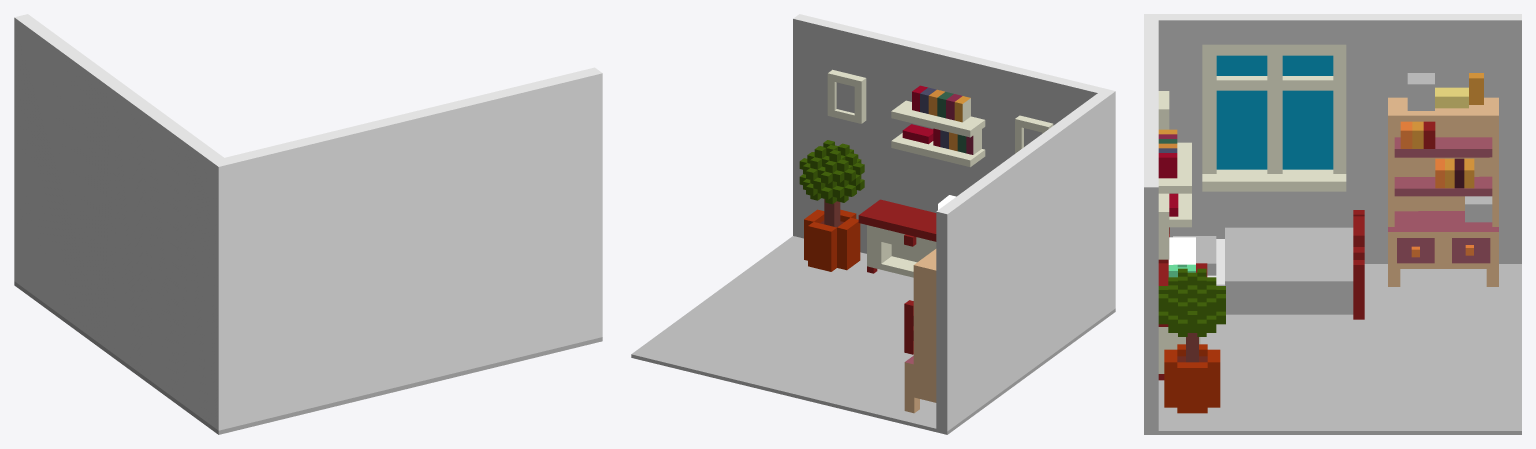
File: bedroom2.gltf
3 renders of one model, left to right at view 1: azimuth 30°, elevation 25°; view 2: azimuth 150°, elevation 25°; view 3: azimuth 270°, elevation 25°, orthographic. The views are drawn at different scales.
Parts seen in each view (by area): view 1: Object_24, Object_5; view 2: Object_24, Object_25, Object_5, Object_31, Object_19, Object_3, Object_6, Object_28, Object_33, Object_27, Object_34, Object_26; view 3: Object_25, Object_5, Object_22, Object_7, Object_19, Object_8, Object_18, Object_31, Object_3, Object_24, Object_6, Object_28 (+12 smaller).
Boxes of the visible parts, x1,y1,x2,y2 form: Object_24: [14, 14, 602, 430]; Object_5: [14, 281, 602, 434]; Object_24: [793, 14, 1115, 431]; Object_25: [793, 19, 1097, 431]; Object_5: [631, 236, 1115, 434]; Object_31: [827, 69, 1053, 167]; Object_19: [904, 249, 936, 413]; Object_3: [798, 279, 913, 343]; Object_6: [799, 140, 864, 204]; Object_28: [804, 209, 860, 271]; Object_33: [858, 199, 936, 340]; Object_27: [867, 225, 936, 277]; Object_34: [902, 85, 940, 146]; Object_26: [836, 82, 1041, 146]; Object_25: [1144, 20, 1521, 430]; Object_5: [1144, 264, 1521, 434]; Object_22: [1225, 227, 1353, 314]; Object_7: [1216, 55, 1333, 169]; Object_19: [1388, 97, 1498, 286]; Object_8: [1202, 44, 1346, 173]; Object_18: [1388, 137, 1498, 263]; Object_31: [1158, 76, 1346, 259]; Object_3: [1219, 337, 1365, 377]; Object_24: [1144, 14, 1521, 187]; Object_6: [1158, 268, 1225, 336]; Object_28: [1164, 344, 1220, 413].
Bounding box in the file's own units: 15 × 10 × 13.83.
